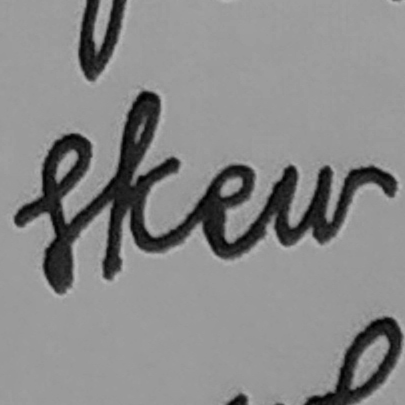e: (192, 158, 262, 265)
k: (97, 86, 186, 285)
s: (11, 129, 94, 297)
w: (267, 154, 367, 250)
